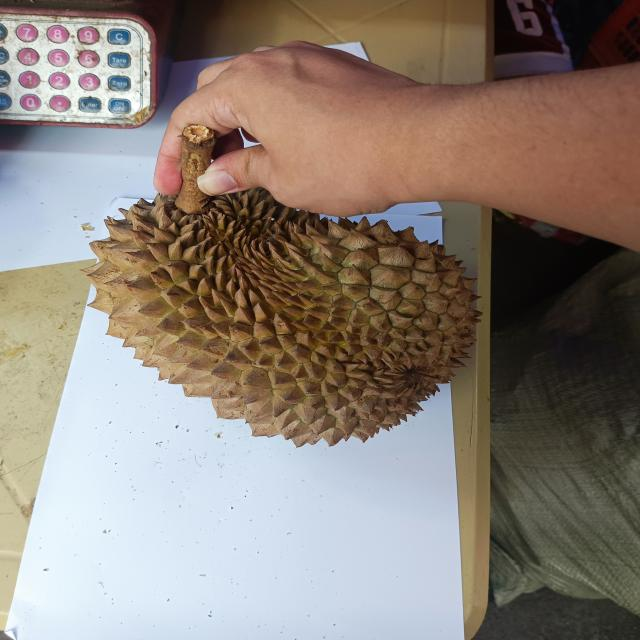mature: (81, 180, 479, 447)
